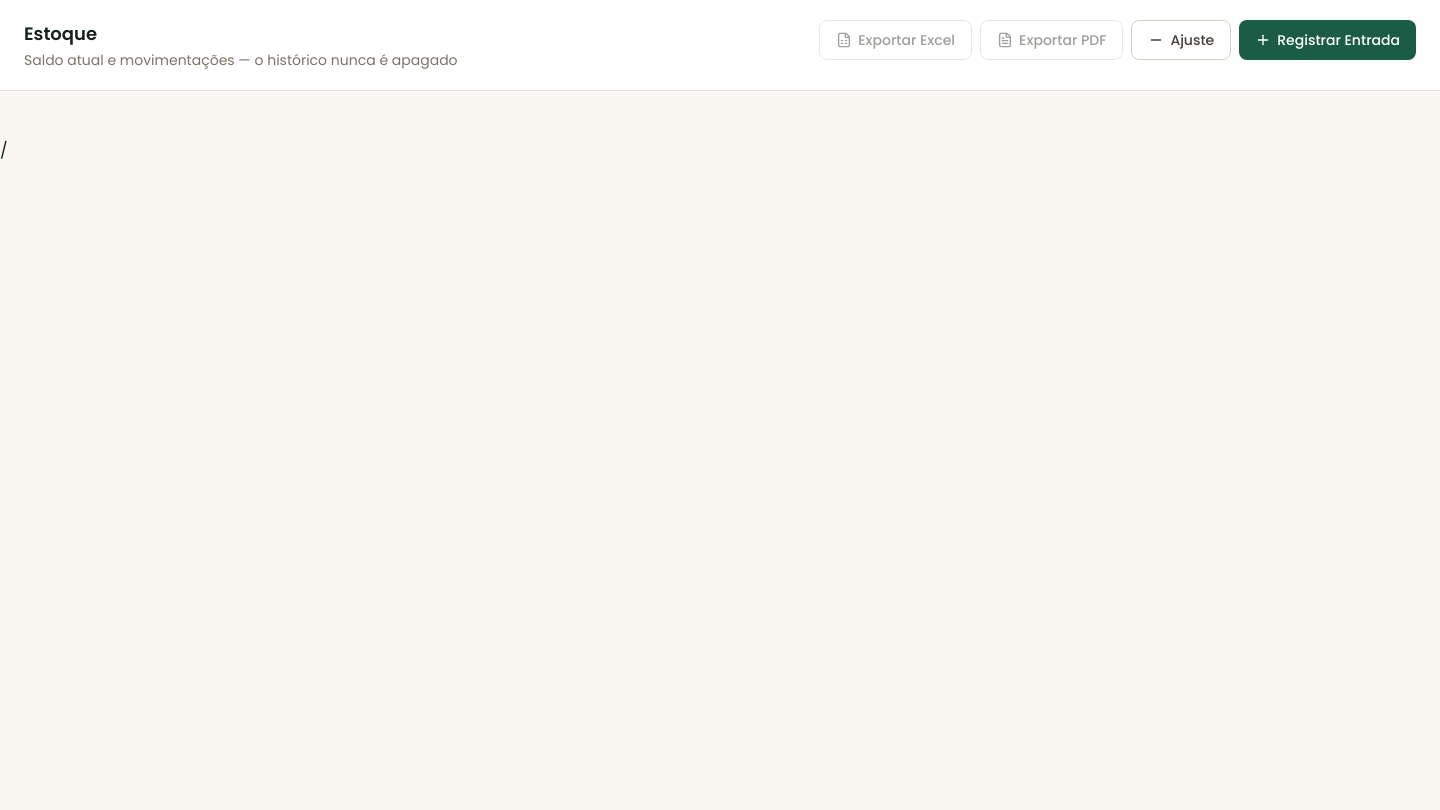
it: Estoque › entrada com erro de texto
Click the button "Registrar Entrada": x=1328, y=40 [1239,20,1416,60]
(page scrolled)
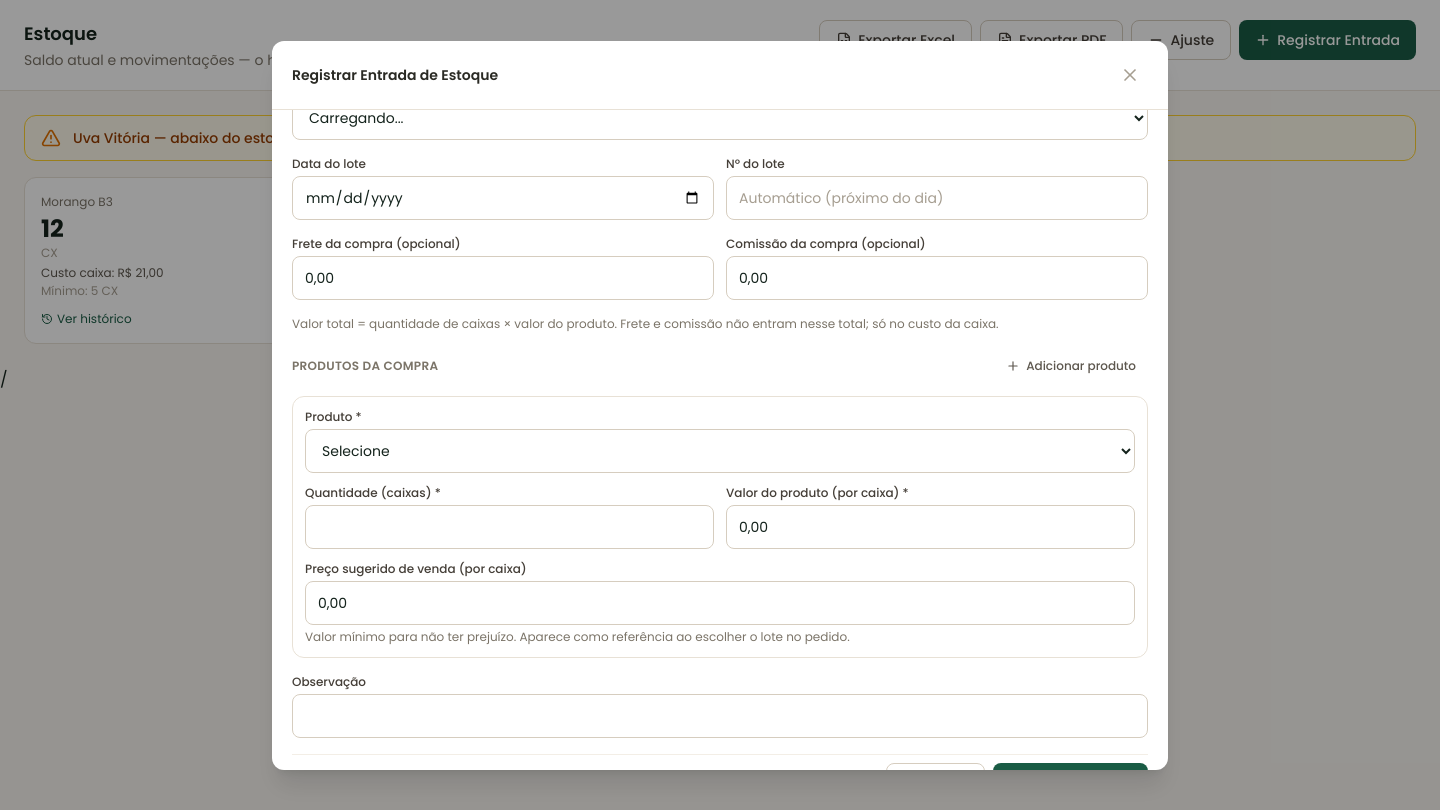
Submit the form, box [292,76,1148,802]
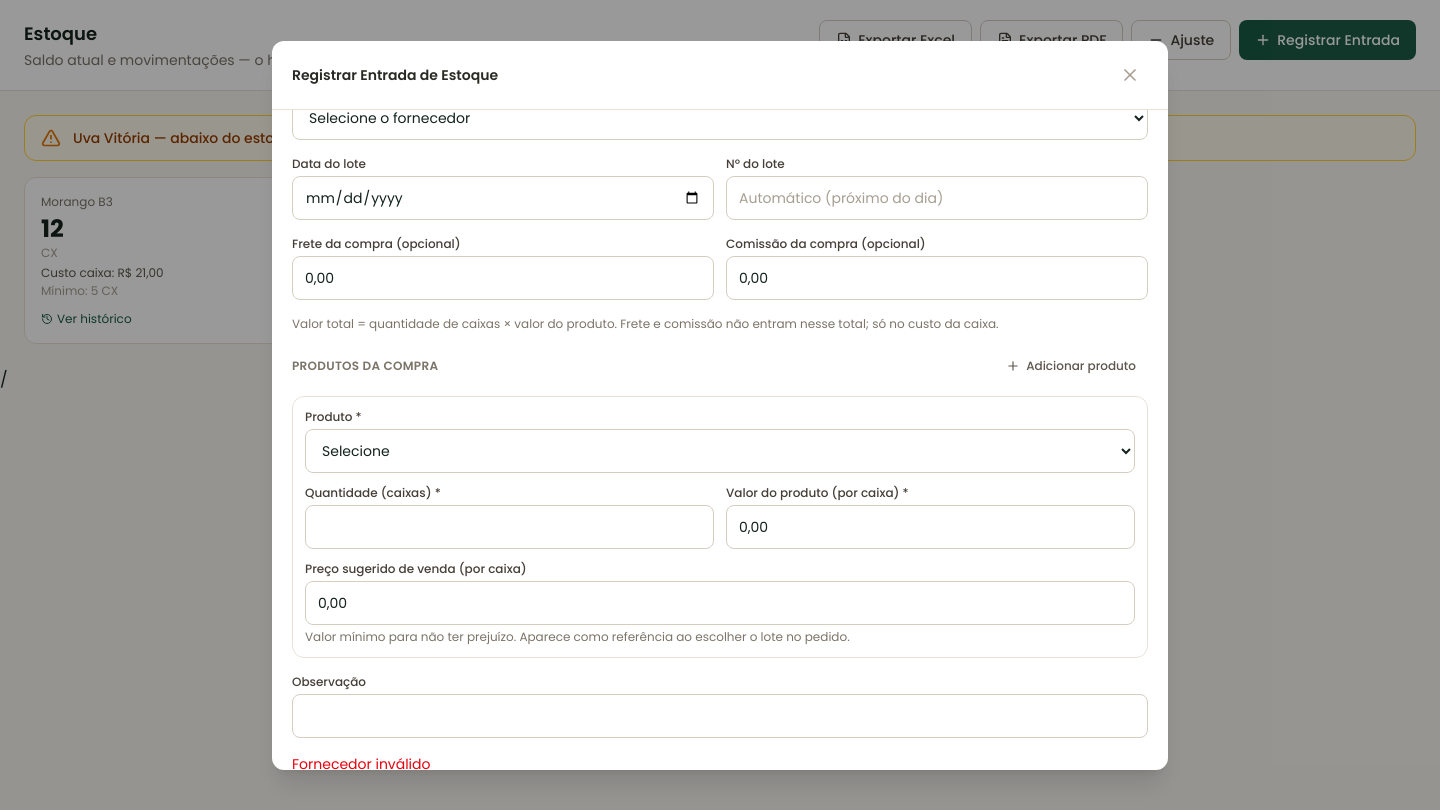
expect the text "Fornecedor inválido" is shown: met, box [292,754,430,770]
